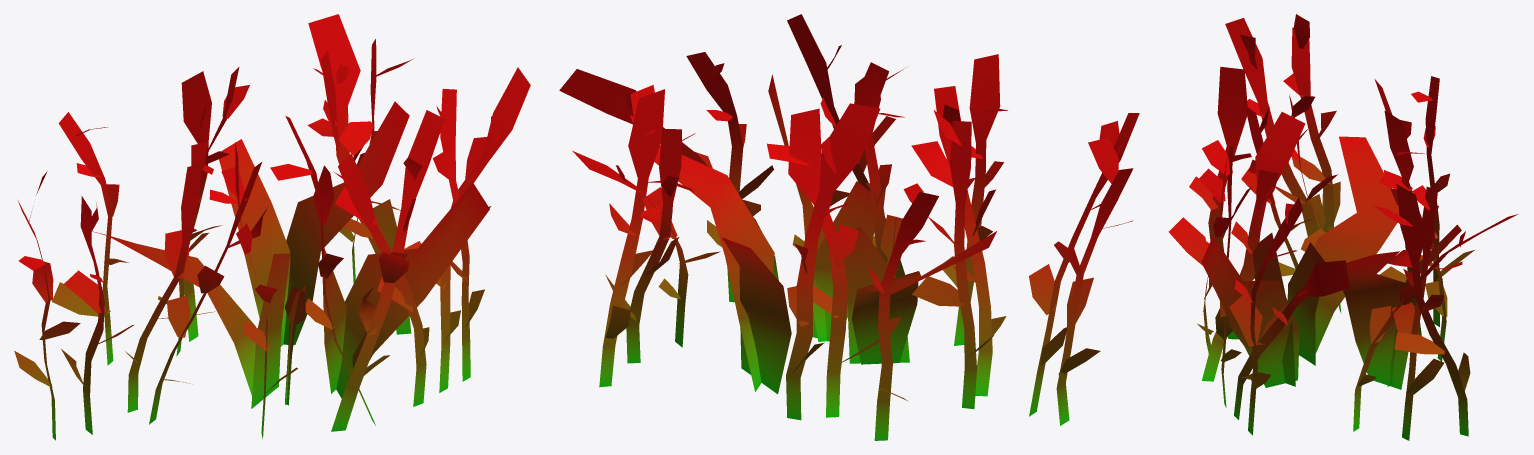
Rendered from Var3_LOD1.fbx.
The picture shows the model from 3 angles, left to right: view 1: azimuth 30°, elevation 25°; view 2: azimuth 150°, elevation 25°; view 3: azimuth 270°, elevation 25°; orthographic projection. The views are drawn at different scales.
Visible parts, largest first — view 1: _f0bf_Var3_LOD1; view 2: _f0bf_Var3_LOD1; view 3: _f0bf_Var3_LOD1.
Boxes of the visible parts, x1=… form: _f0bf_Var3_LOD1: x1=14, y1=14, x2=530, y2=440; _f0bf_Var3_LOD1: x1=559, y1=14, x2=1139, y2=440; _f0bf_Var3_LOD1: x1=1168, y1=14, x2=1518, y2=440.
Size of the model in its own units: 14.46 by 7.77 by 9.17.
